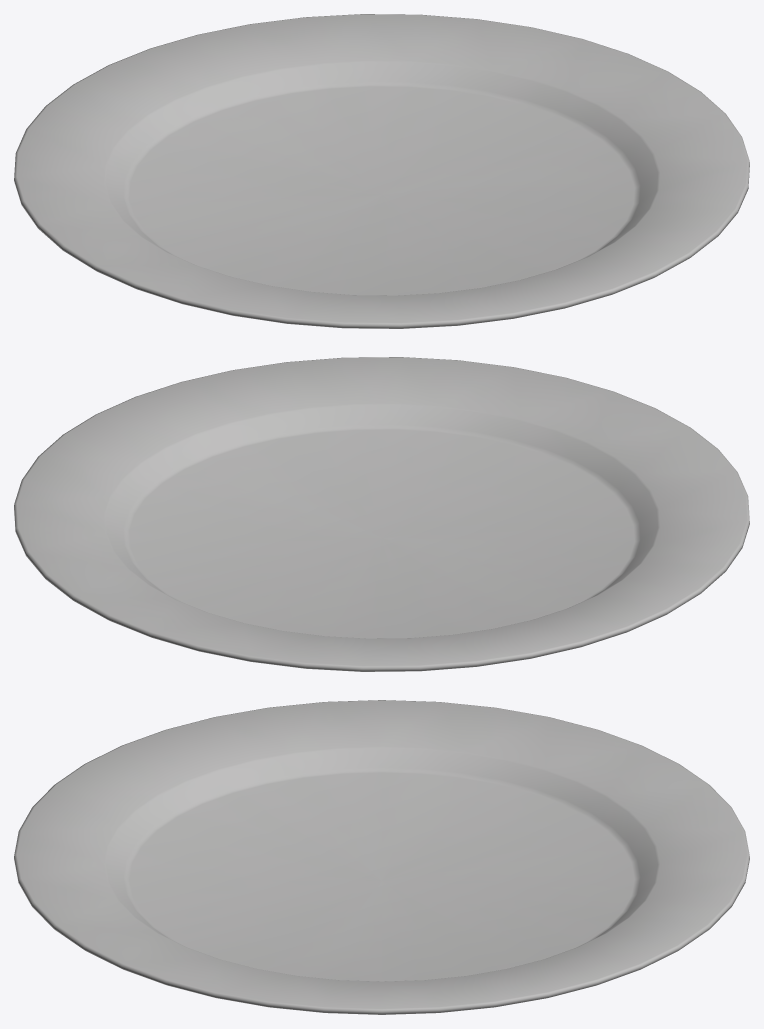
The model's file is Dish_B.fbx.
3 renders of one model, top to bottom at view 1: azimuth 30°, elevation 25°; view 2: azimuth 150°, elevation 25°; view 3: azimuth 270°, elevation 25°, orthographic.
Visible parts, largest first — view 1: Dish_B; view 2: Dish_B; view 3: Dish_B.
Part boxes in pixels (bbox=[...]): Dish_B: bbox=[14, 14, 749, 328]; Dish_B: bbox=[14, 357, 749, 671]; Dish_B: bbox=[14, 700, 749, 1014].
Bounding box in the file's own units: 0.6073 × 0.0422 × 0.6073.
